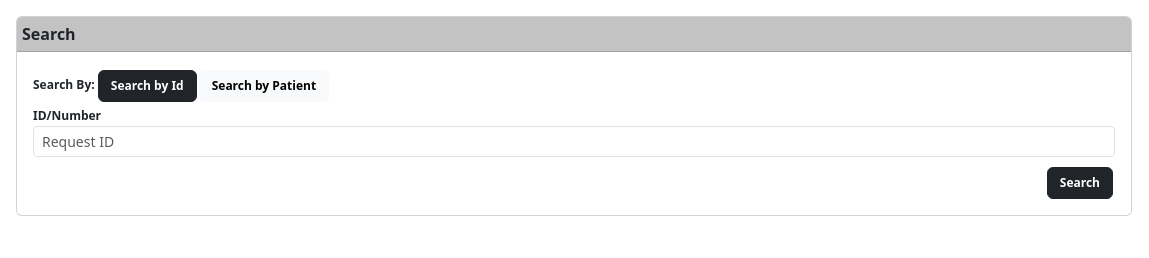
Test case: SearchRequestView Component › shows validation error when Name search form is submitted with all empty fields
Click the button "Search by Patient".
click(264, 86)  # box [199,70,329,102]
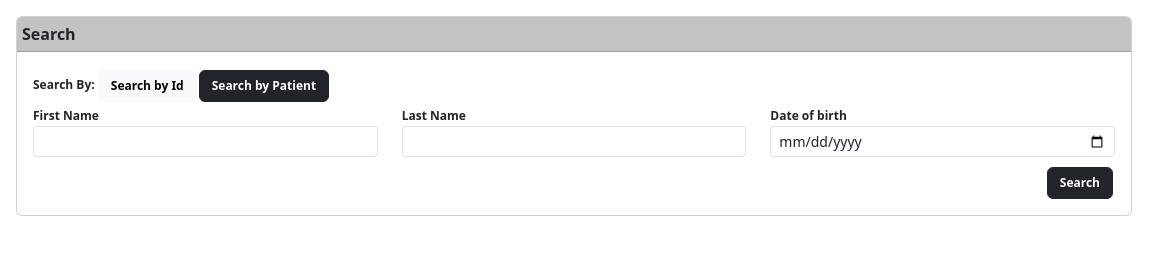
Click the button "Search".
click(1080, 183)  # box [1047,167,1113,199]
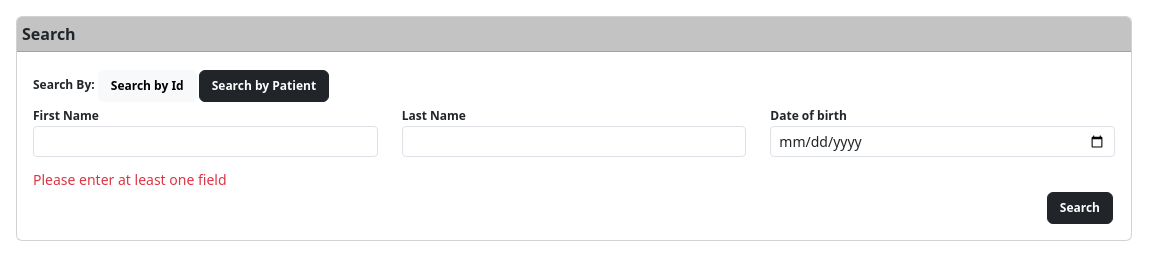
Expected: the text "Please enter at least one field" is shown, [33,170,226,189]
